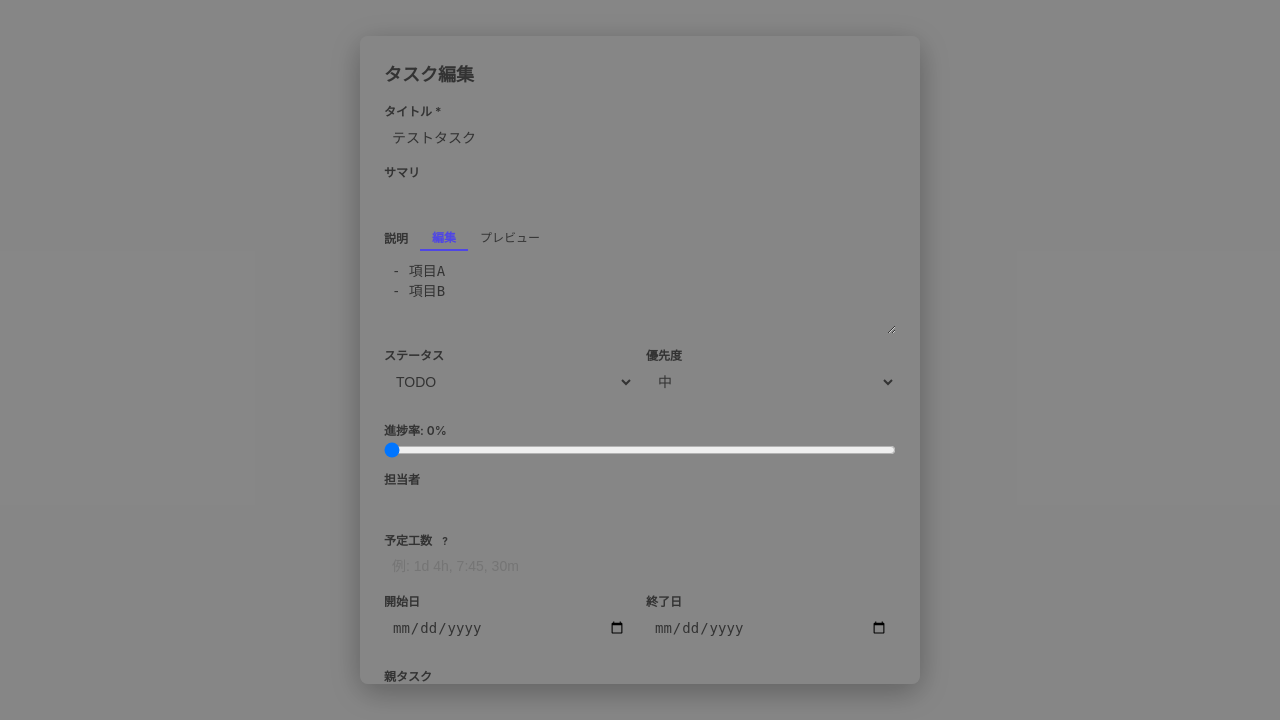
TaskModal — 説明フィールドのタブ切り替え › プレビューで箇条書きがレンダリングされる
Click the tab "プレビュー" at (510, 238), box [468,224,552,251]
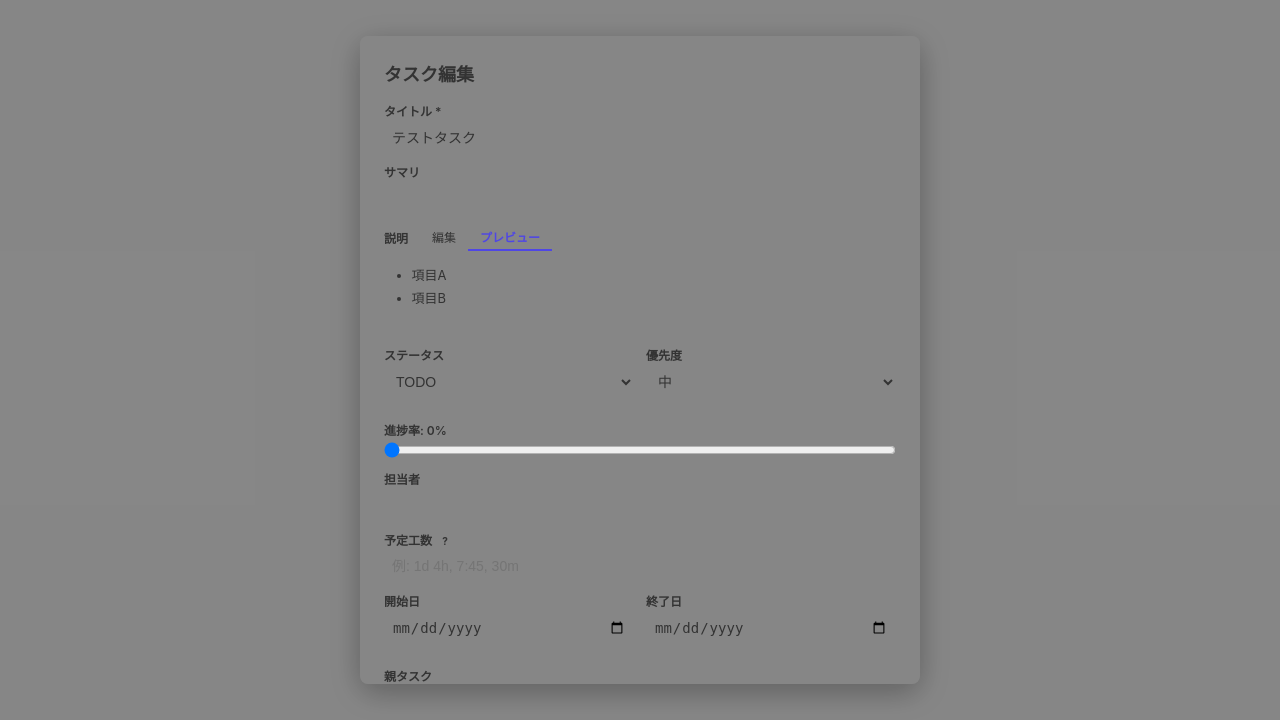
Expected: the list is shown, [412,267,446,306]
Expected: the list item "項目A" is shown, [412,267,446,283]
